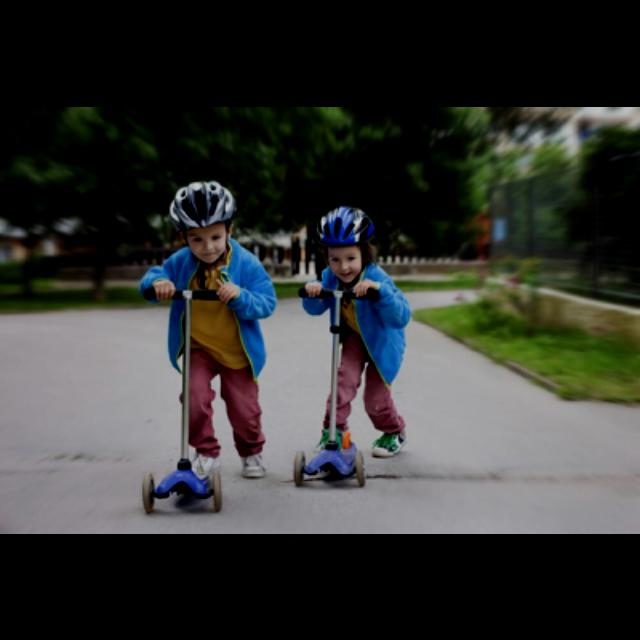With Helmet: (307, 202, 377, 284)
